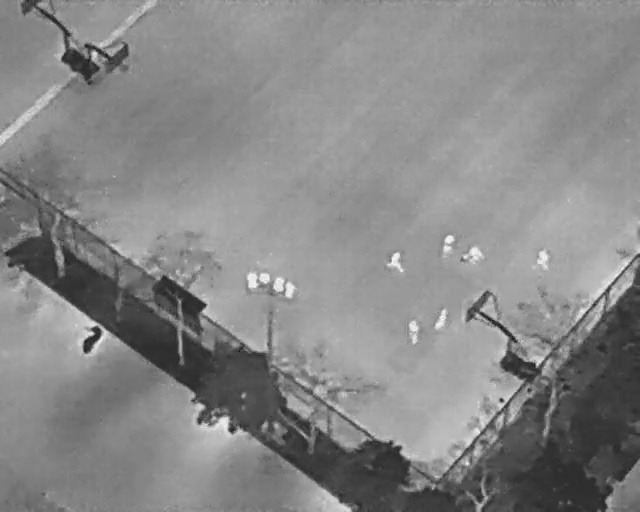Bicycle: (72, 319, 108, 358)
Person: (460, 242, 487, 267), (431, 305, 452, 332), (534, 248, 551, 273), (387, 249, 404, 272), (407, 319, 420, 346), (442, 232, 456, 257)
